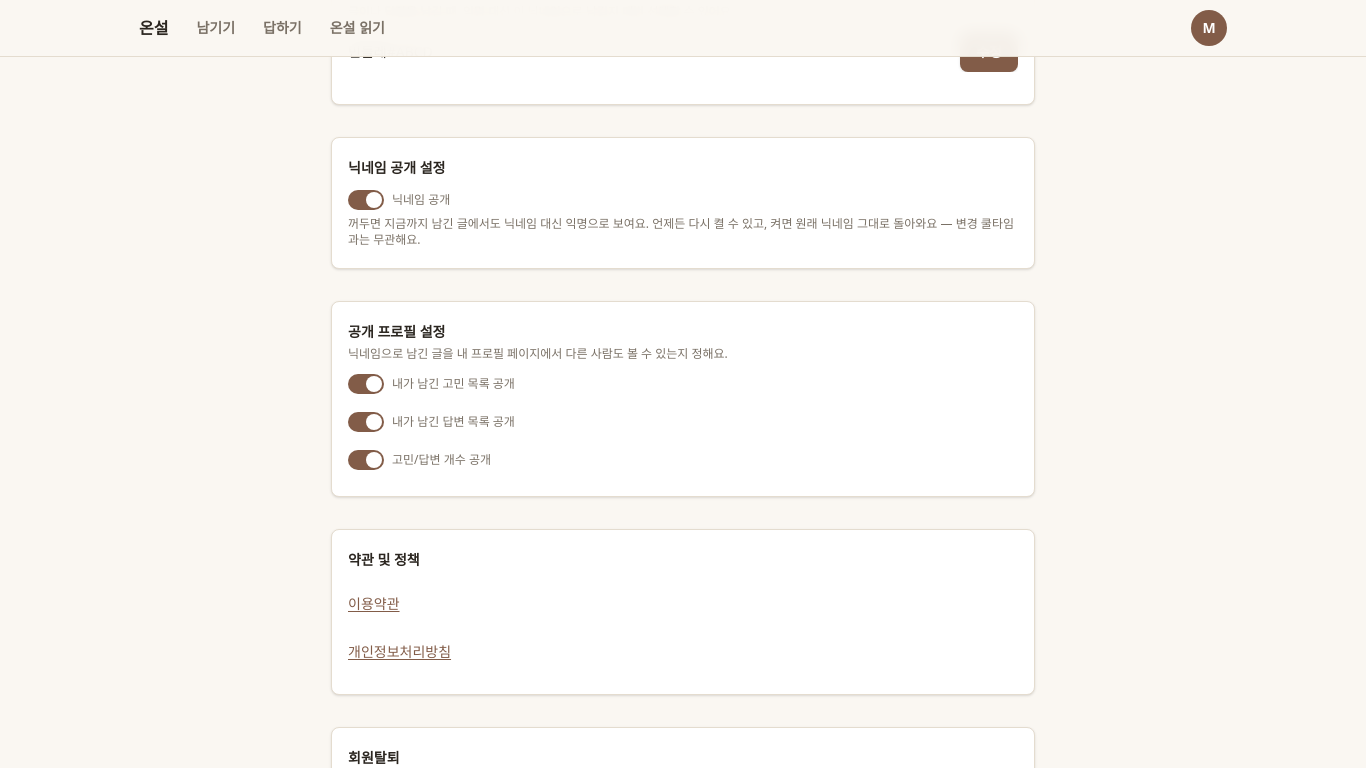
MePage › confirming the dialog sends the full draft, including nicknameVisible
(page scrolled)
Click the switch labelled "내가 남긴 고민 목록 공개": coordinates (431, 384) [348,374,515,394]
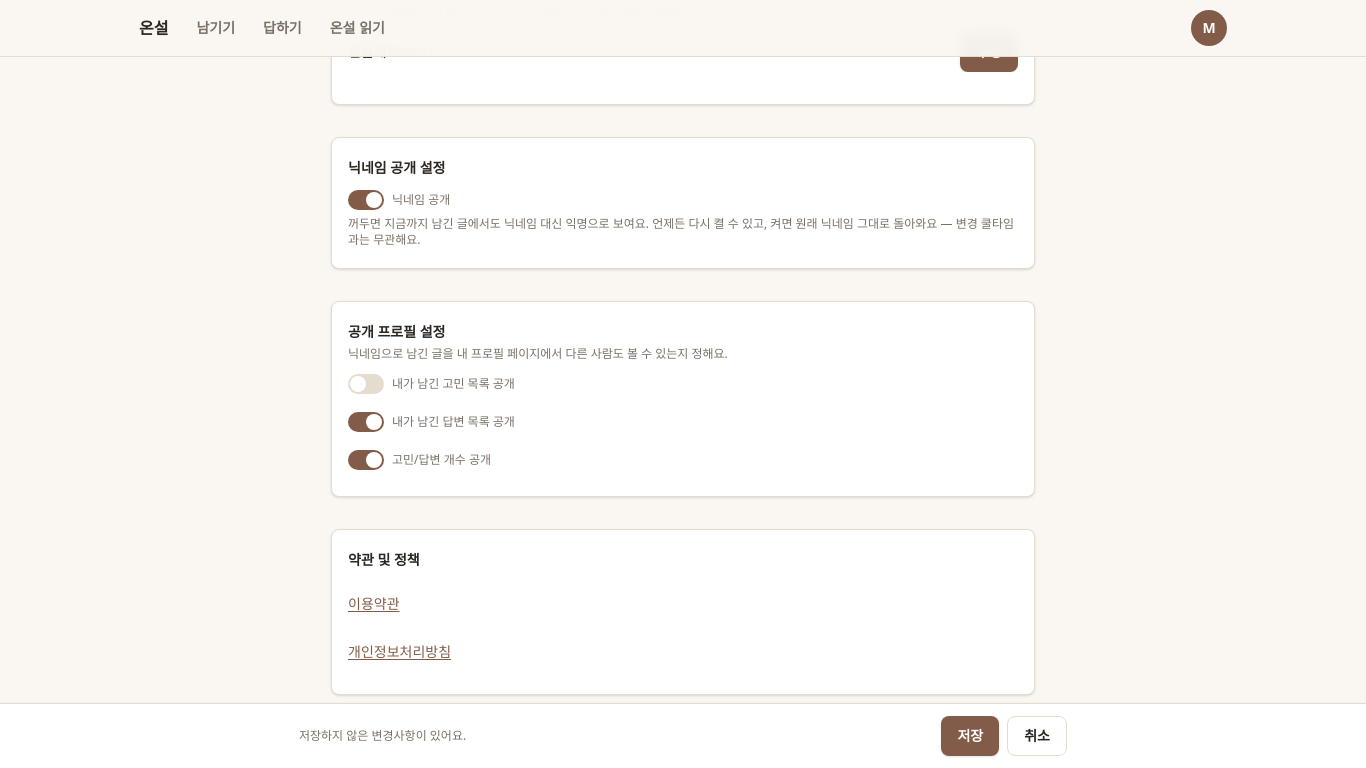
Click the button "저장": coordinates (970, 736) [942,716,999,756]
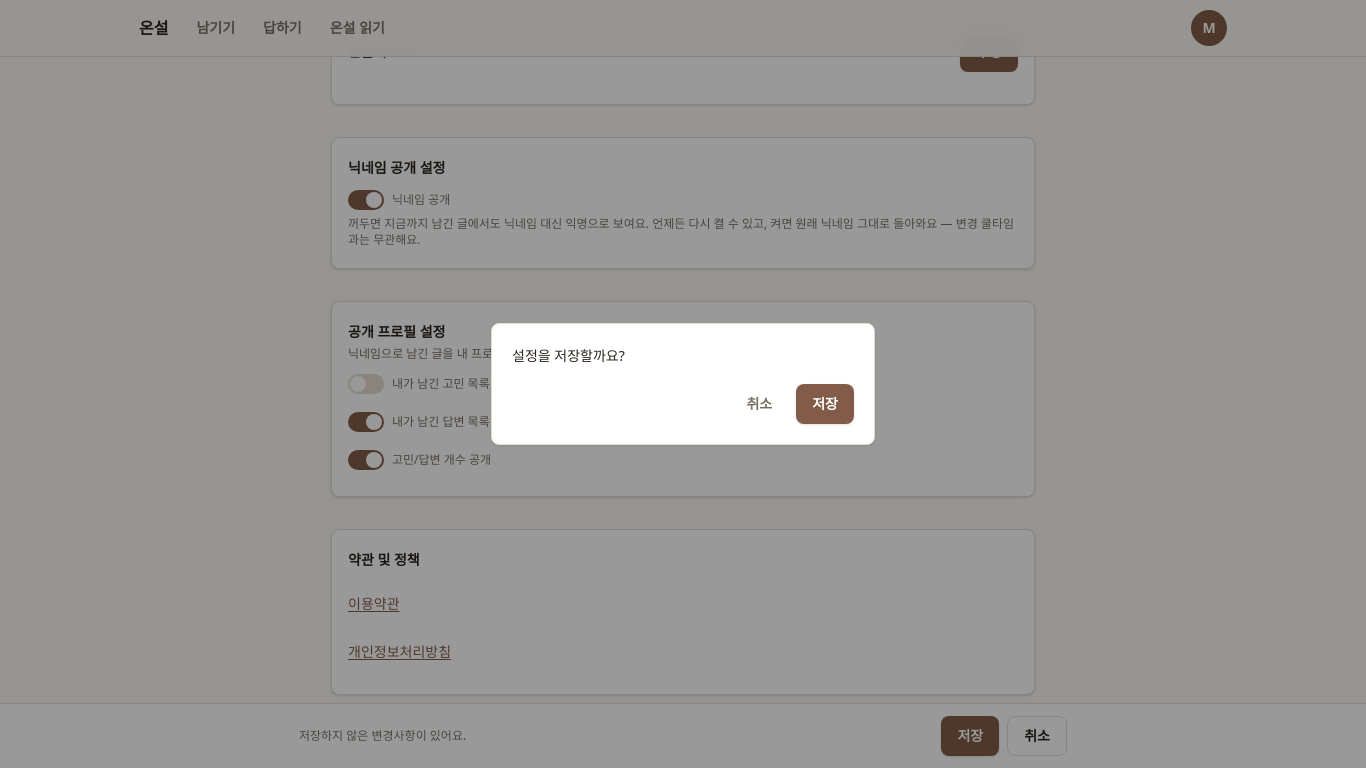
Click the button "저장": coordinates (825, 404) [796,384,854,424]
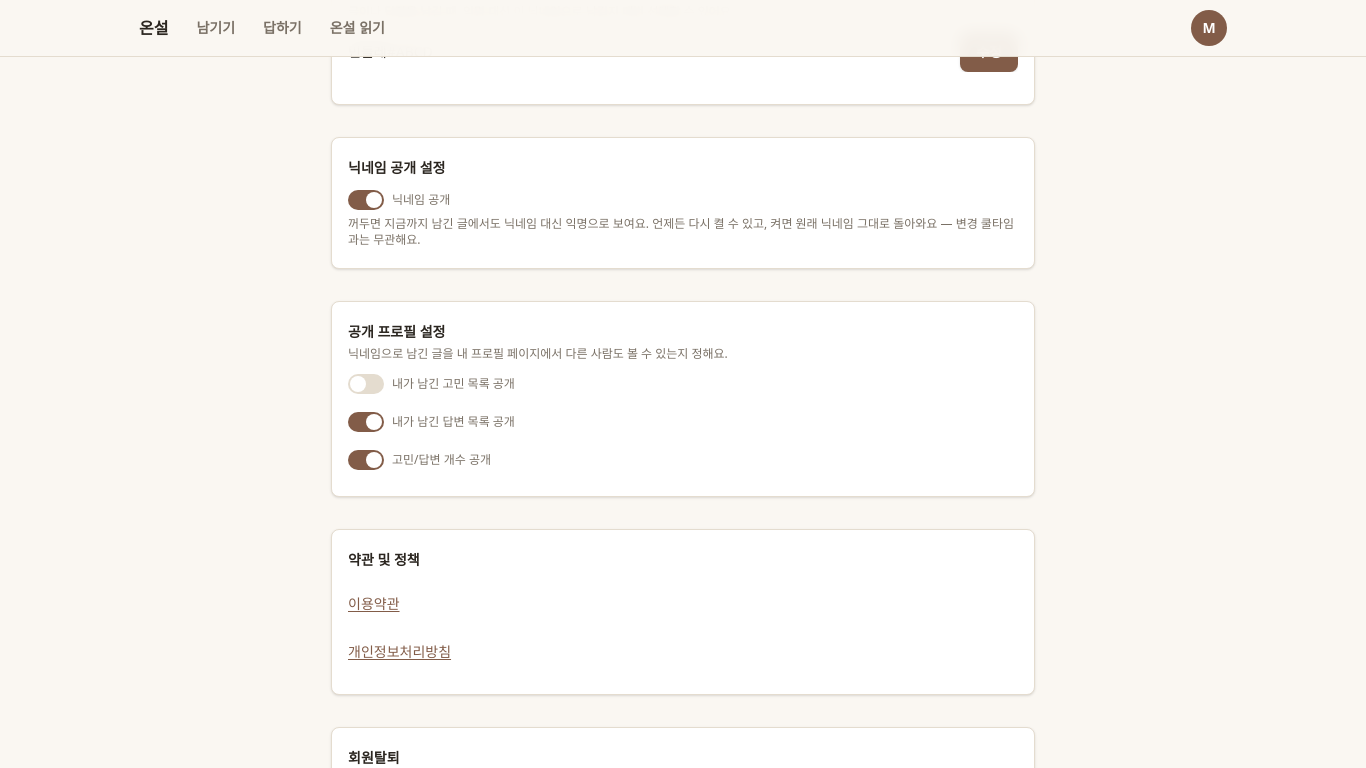
Expected: the switch labelled "내가 남긴 고민 목록 공개" is shown, [348,374,515,394]
Expected: the dialog is gone
